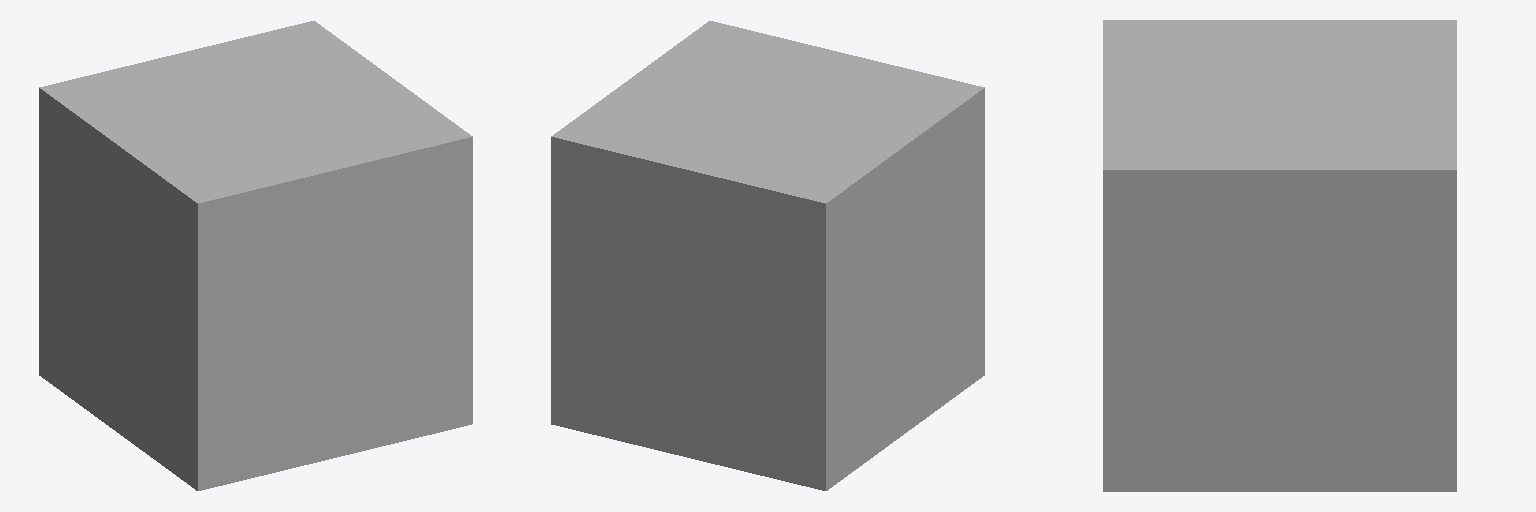
The robot description file, URDF, robot "root":
<robot name="root">
  <link name="link_ycb~cubei18_convex_piece_0">
    <inertial>
      <origin xyz="0 0 0" rpy="0 0 0"/>
      <mass value="7.70E-02"/>
      <inertia ixx="9.21E-06" ixy="-8.59E-11" ixz="2.89E-14" iyy="9.22E-06" iyz="-6.74E-14" izz="9.22E-06"/>
    </inertial>
    <visual>
      <origin xyz="0 0 0" rpy="0 0 0"/>
      <geometry>
        <mesh filename="ycb~cubei18_convex_piece_0.obj" scale="1.0000E+00 1.0000E+00 1.0000E+00"/>
      </geometry>
      <material name="">
        <color rgba="7.50E-01 7.50E-01 7.50E-01 1"/>
      </material>
    </visual>
    <collision>
      <origin xyz="0 0 0" rpy="0 0 0"/>
      <geometry>
        <mesh filename="ycb~cubei18_convex_piece_0.obj" scale="1.0000E+00 1.0000E+00 1.0000E+00"/>
      </geometry>
    </collision>
  </link>
</robot>

--- What the picture shows (computed from the rendered views, not written in the file) ---
The picture shows the robot from 3 angles, left to right: view 1: azimuth 30°, elevation 25°; view 2: azimuth 150°, elevation 25°; view 3: azimuth 270°, elevation 25°; orthographic projection.
Model root with 1 links and 0 joints (none), rooted at link_ycb~cubei18_convex_piece_0, posed all joints at 0.
Visible links, largest first — view 1: link_ycb~cubei18_convex_piece_0; view 2: link_ycb~cubei18_convex_piece_0; view 3: link_ycb~cubei18_convex_piece_0.
Boxes of the visible links, left/top/right/bottom form: link_ycb~cubei18_convex_piece_0: left=39, top=21, right=472, bottom=490; link_ycb~cubei18_convex_piece_0: left=551, top=21, right=984, bottom=490; link_ycb~cubei18_convex_piece_0: left=1103, top=20, right=1456, bottom=491.
Size in the robot's own frame: 0.0268 by 0.0268 by 0.0268 metres.
1 mesh visuals loaded from 1 distinct referenced files (1 OBJ).